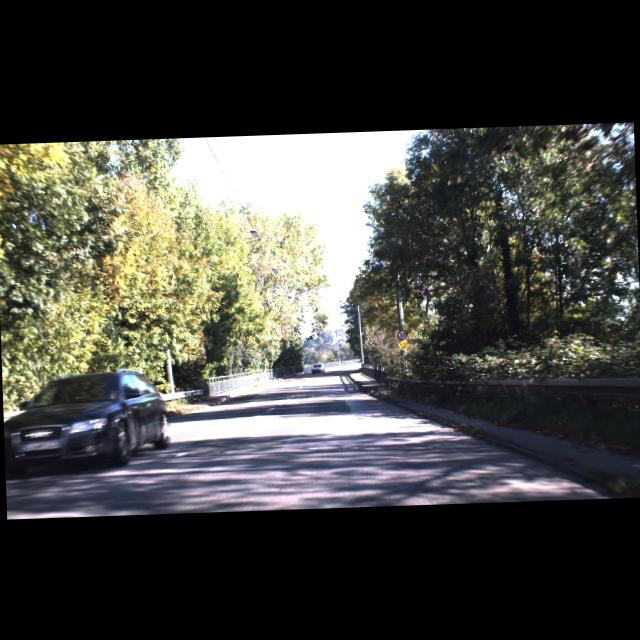prohibitory: (396, 328, 407, 338)
